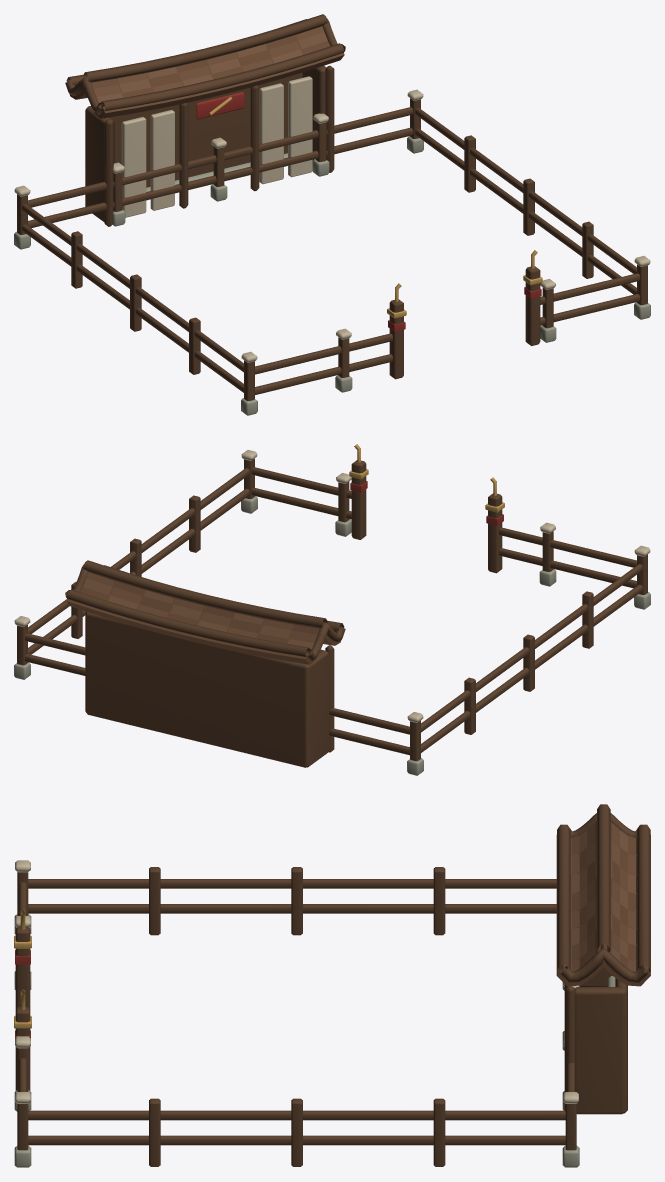
Rendered from farm.glb.
3 renders of one model, top to bottom at view 1: azimuth 30°, elevation 25°; view 2: azimuth 150°, elevation 25°; view 3: azimuth 270°, elevation 25°, orthographic. The views are drawn at different scales.
Parts seen in each view (by area): view 1: farm-exterior; view 2: farm-exterior; view 3: farm-exterior.
Boxes of the visible parts, <box> form: farm-exterior: <box>14,14,650,415</box>; farm-exterior: <box>14,444,650,775</box>; farm-exterior: <box>14,804,650,1167</box>.
Size of the model in its own units: 5.36 by 1.83 by 6.04.
